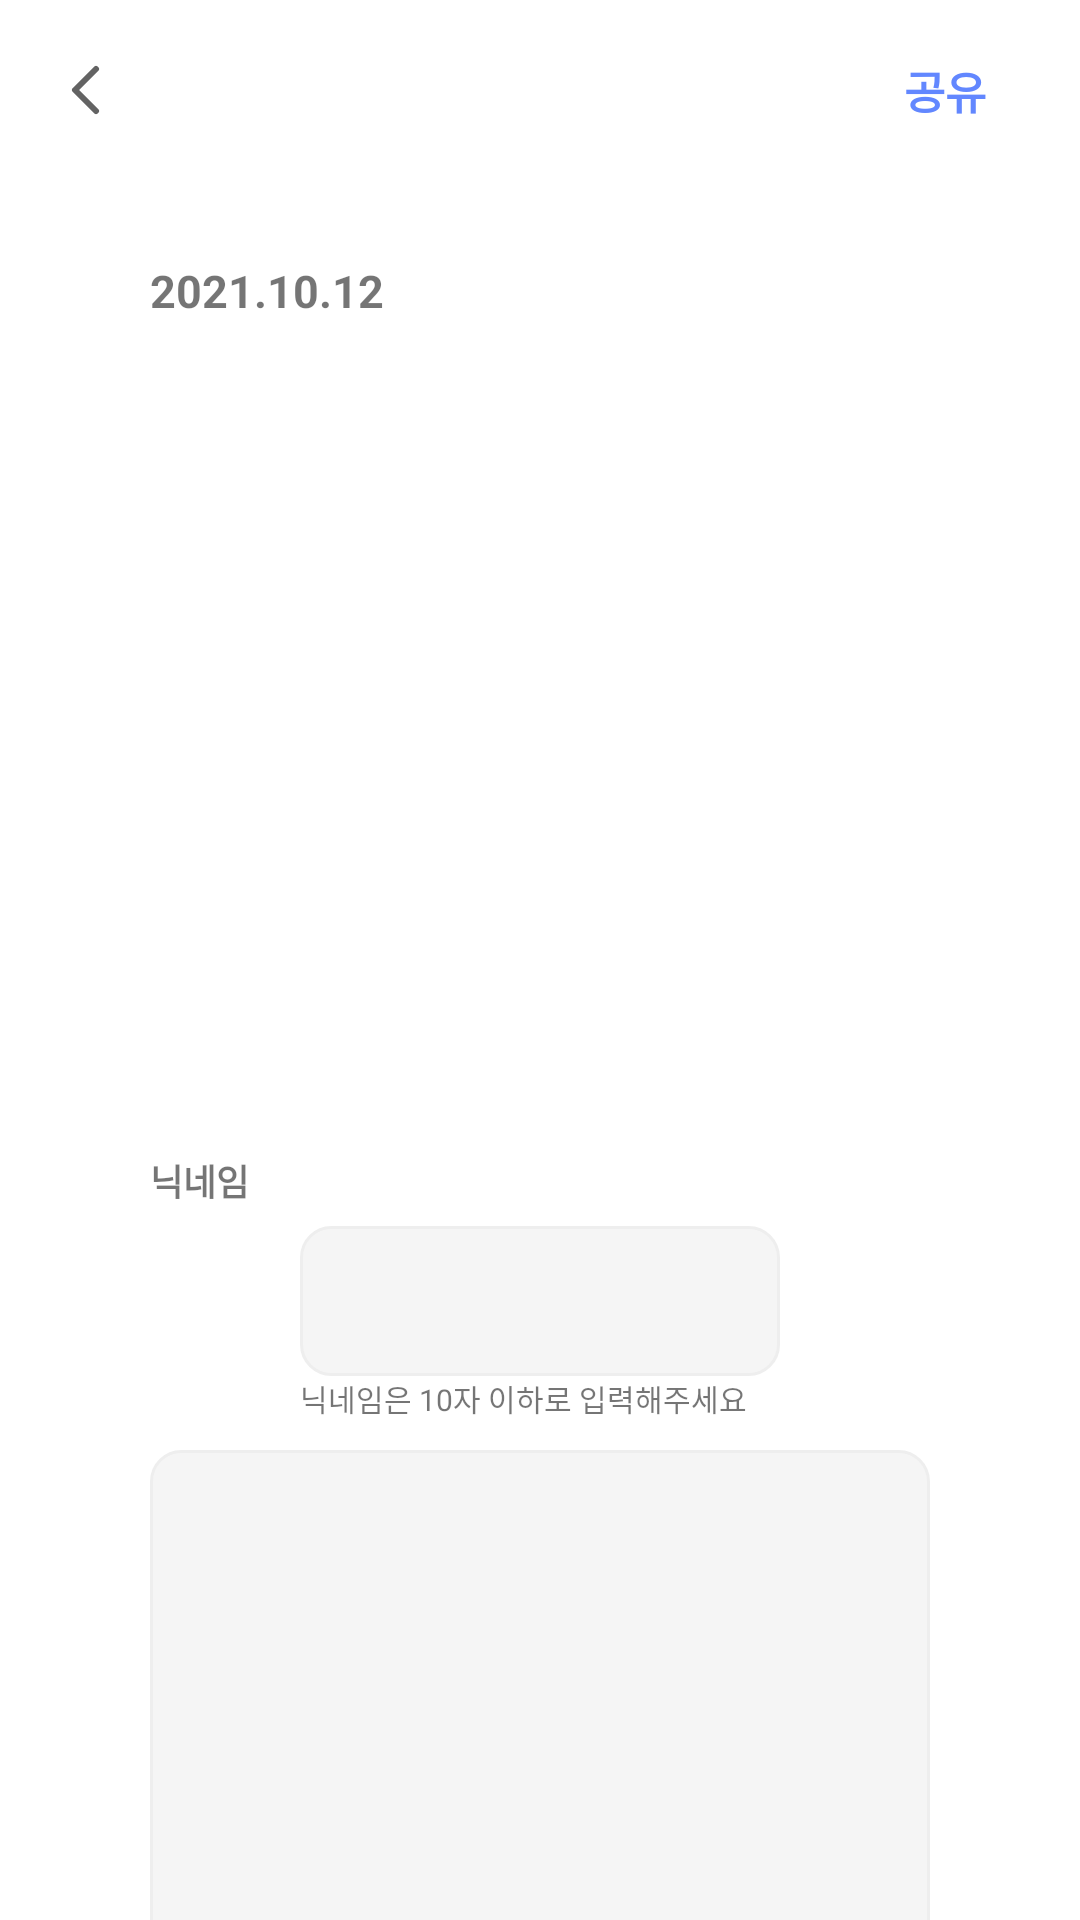

Icon bounding boxes for this 1080×1920 phone screenshot, format [x1,y1,x2,y2]:
back: [72,66,99,114]
